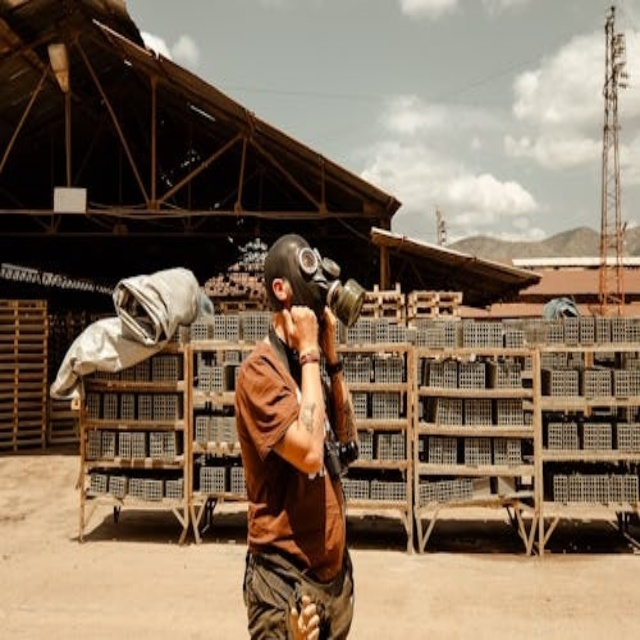Mascara: (285, 234, 366, 331)
Sin_guantes: (285, 302, 321, 361), (312, 294, 340, 367), (288, 593, 321, 640)
